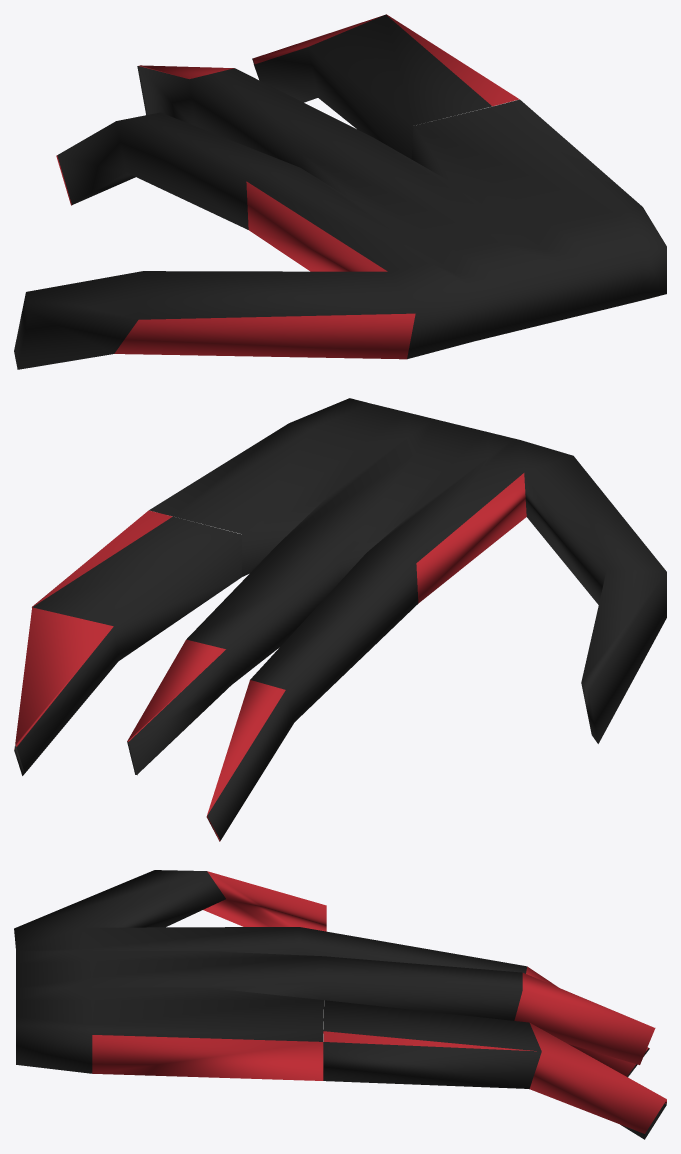
The model's file is hand.fbx.
3 renders of one model, top to bottom at view 1: azimuth 30°, elevation 25°; view 2: azimuth 150°, elevation 25°; view 3: azimuth 270°, elevation 25°, orthographic. The views are drawn at different scales.
Visible parts, largest first — view 1: Cube; view 2: Cube; view 3: Cube.
Boxes of the visible parts, box(x1,y1,x2,y2) form: Cube: box(14, 14, 666, 369); Cube: box(14, 398, 666, 841); Cube: box(14, 870, 666, 1139).
Bounding box in the file's own units: 799 × 271 × 1088.
